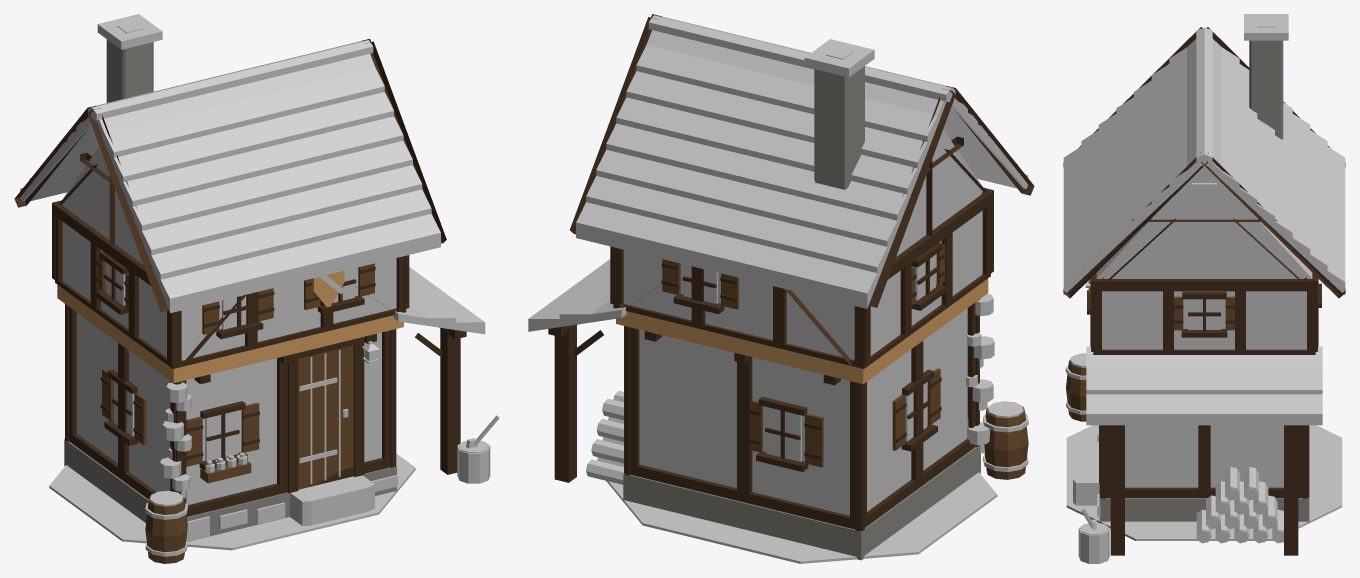
Rendered from house.obj.
3 views of the same model, side by side, from view 1: azimuth 30°, elevation 25°; view 2: azimuth 150°, elevation 25°; view 3: azimuth 270°, elevation 25° (orthographic). The views are drawn at different scales.
Visible parts, largest first — view 1: Roof, Walls, Timber.Post, Upper, Door, Ground, Band, Window.Shutter, Roof.Ridge, Plinth, Gable.Barge, Door.Frame (+20 smaller); view 2: Roof, Walls, Timber.Post, Upper, Plinth, Ground, Band, Chimney, Gable.Barge, Timber.Sill, Window.Shutter, Roof.Ridge (+14 smaller); view 3: Roof, Shed.Roof, Gable, Walls, Upper, Ground, Timber.Post, Shed.Post, Firewood, Chimney, Timber.Plate, Gable.Barge (+15 smaller).
Boxes of the visible parts, x1,y1,x2,y2 form: Roof: [20, 54, 440, 313]; Walls: [76, 312, 381, 504]; Timber.Post: [52, 201, 409, 503]; Upper: [62, 222, 396, 360]; Door: [298, 345, 353, 489]; Ground: [49, 454, 415, 550]; Band: [57, 284, 403, 383]; Window.Shutter: [98, 253, 374, 466]; Roof.Ridge: [88, 40, 373, 120]; Plinth: [64, 439, 396, 541]; Gable.Barge: [14, 39, 446, 311]; Door.Frame: [287, 336, 364, 493]; Roof: [576, 30, 1028, 308]; Walls: [639, 308, 967, 515]; Timber.Post: [610, 190, 993, 531]; Upper: [623, 210, 982, 359]; Plinth: [623, 447, 980, 560]; Ground: [606, 472, 997, 563]; Band: [616, 278, 988, 384]; Chimney: [814, 66, 864, 189]; Gable.Barge: [570, 14, 1034, 307]; Timber.Sill: [634, 438, 975, 529]; Window.Shutter: [662, 244, 944, 467]; Roof.Ridge: [648, 15, 955, 101]; Roof: [1063, 39, 1345, 295]; Shed.Roof: [1086, 346, 1322, 425]; Gable: [1096, 166, 1312, 278]; Walls: [1125, 425, 1283, 487]; Upper: [1102, 291, 1306, 349]; Ground: [1066, 425, 1342, 540]; Timber.Post: [1091, 276, 1317, 498]; Shed.Post: [1110, 425, 1298, 555]; Firewood: [1196, 467, 1283, 543]; Chimney: [1249, 40, 1283, 139]; Timber.Plate: [1091, 273, 1317, 291]; Gable.Barge: [1063, 27, 1345, 298].
Size of the model in its own units: 4.82 by 5.87 by 3.59.
